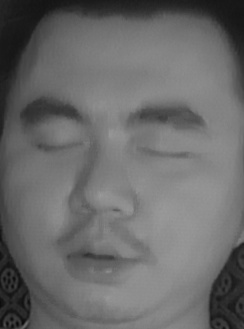blink: (134, 130, 196, 174), (34, 124, 88, 165)
mouth: (54, 224, 146, 282)
